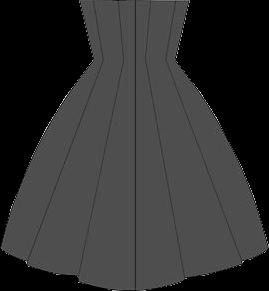Hemline: (0, 244, 268, 290)
Waistline: (78, 0, 191, 1)
